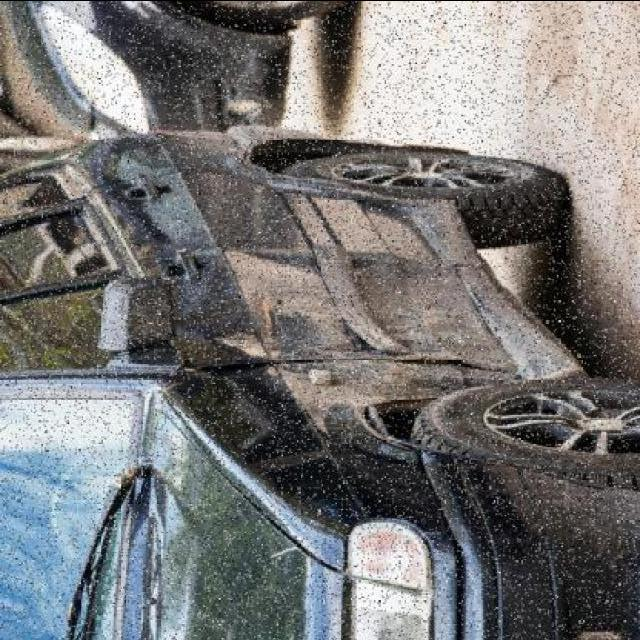doorouter-dent: (116, 248, 527, 375)
fender-dent: (176, 370, 565, 548)
